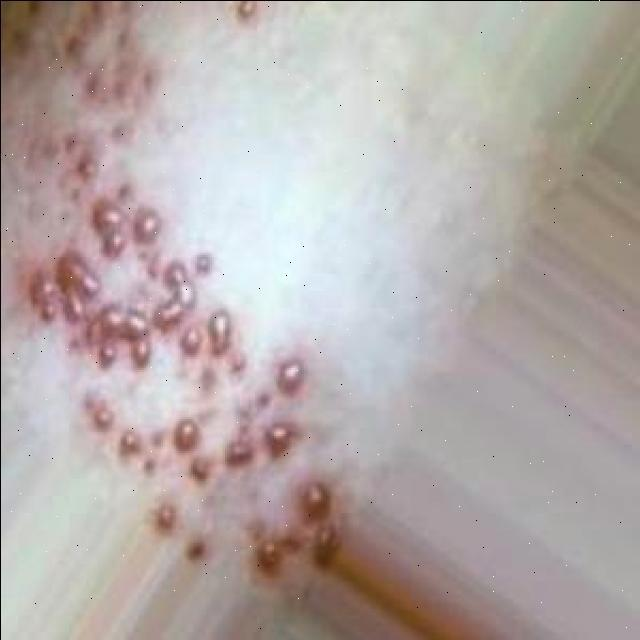Shingles: (3, 193, 339, 576), (8, 0, 156, 185)
